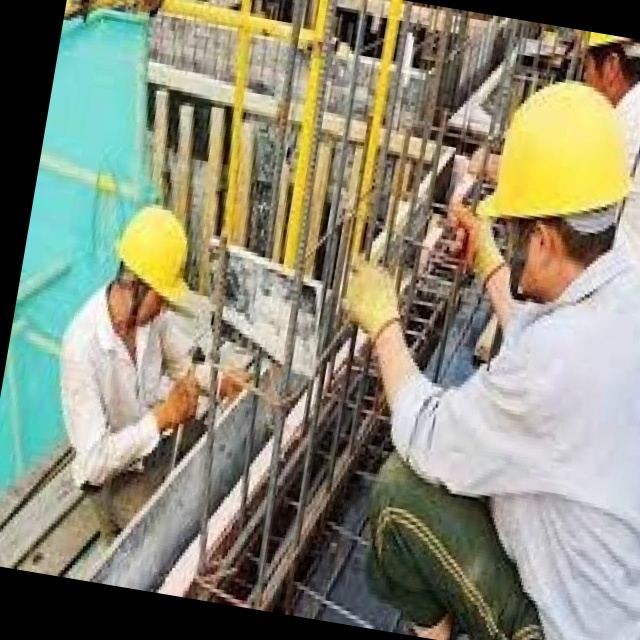Con_Casco: (99, 202, 201, 340)
